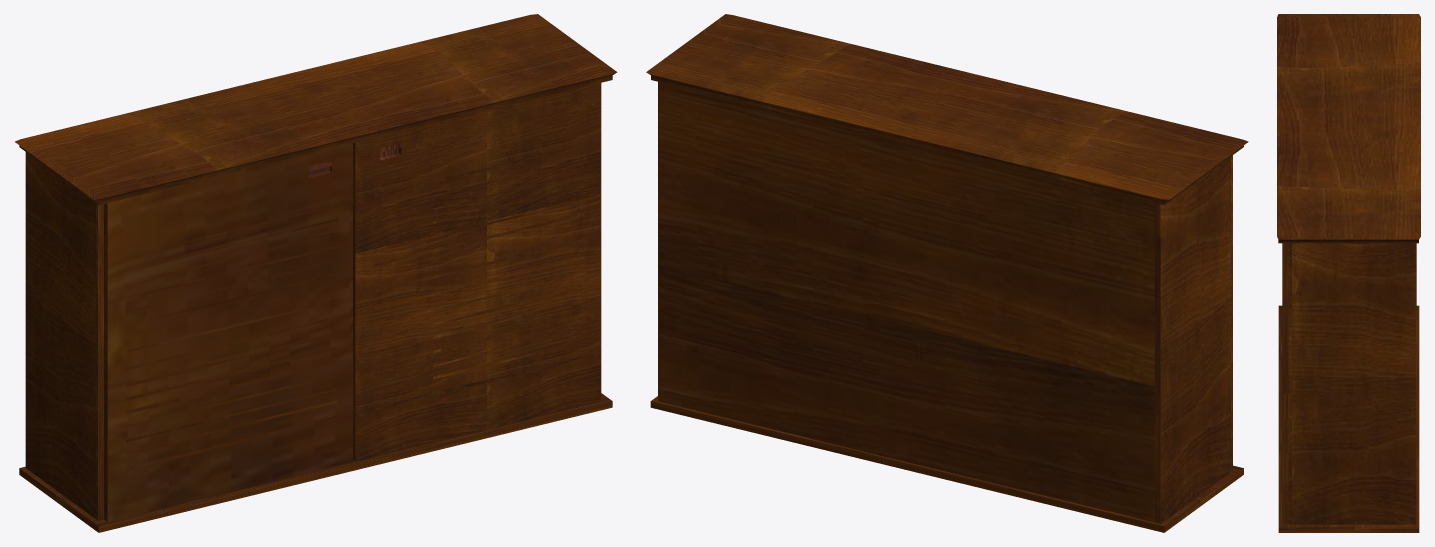
The model's file is TVcabinet.fbx.
The picture shows the model from 3 angles, left to right: view 1: azimuth 30°, elevation 25°; view 2: azimuth 150°, elevation 25°; view 3: azimuth 270°, elevation 25°; orthographic projection. The views are drawn at different scales.
Parts seen in each view (by area): view 1: pCube4, pasted__pCube4, pasted__pCube3, pCube2, pCube3; view 2: pCube1, pasted__pCube3, pCube2, pCube3; view 3: pasted__pCube2, pasted__pCube3, pCube3, pasted__pCube4.
Part boxes in pixels (left/top/right/bottom): pCube4: left=104, top=143, right=352, bottom=522; pasted__pCube4: left=353, top=83, right=600, bottom=461; pasted__pCube3: left=15, top=14, right=617, bottom=205; pCube2: left=25, top=152, right=103, bottom=520; pCube3: left=19, top=393, right=612, bottom=532; pCube1: left=658, top=82, right=1154, bottom=522; pasted__pCube3: left=646, top=14, right=1248, bottom=205; pCube2: left=1154, top=155, right=1232, bottom=523; pCube3: left=650, top=396, right=1243, bottom=532; pasted__pCube2: left=1288, top=243, right=1416, bottom=524; pasted__pCube3: left=1277, top=14, right=1420, bottom=243; pCube3: left=1278, top=305, right=1419, bottom=532; pasted__pCube4: left=1282, top=243, right=1288, bottom=522.
Size of the model in its own units: 83.56 by 50.99 by 22.49.
2 materials, 2 textured.
